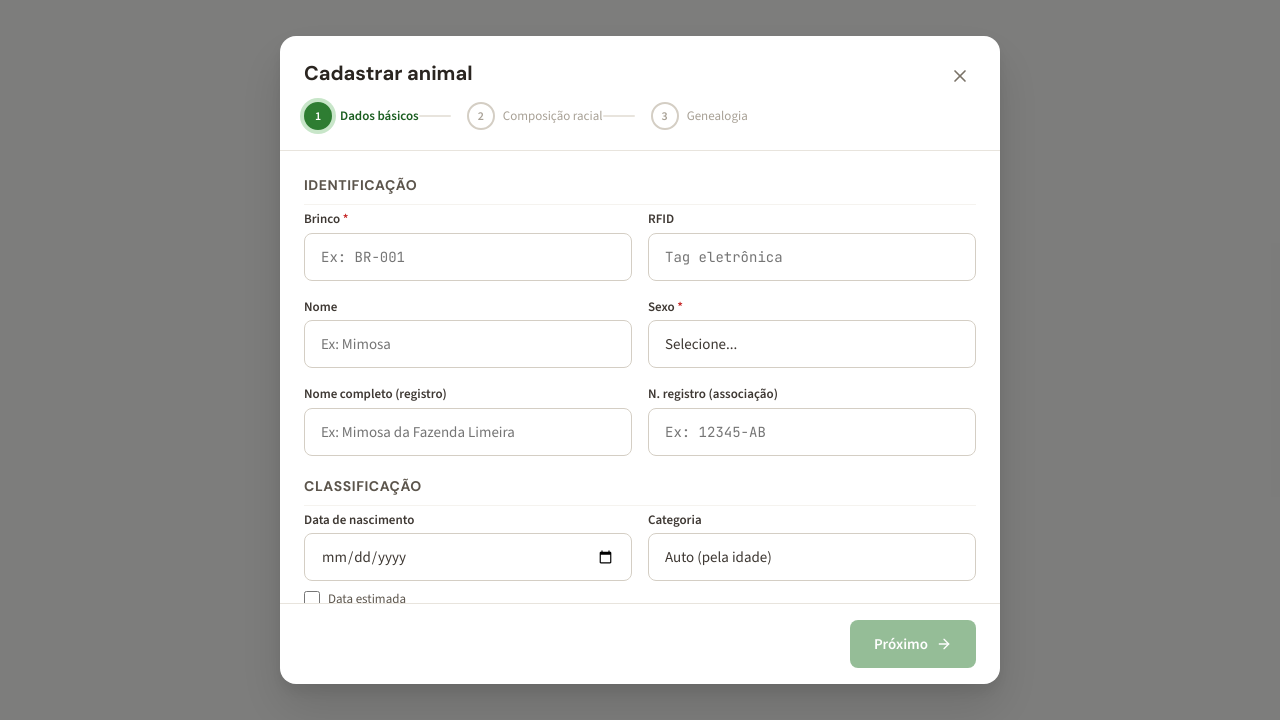
Test case: CreateAnimalModal › should navigate to step 2
Type "BR-001" into the field labelled "Brinco *" at (468, 256), box [304,232,632,280]
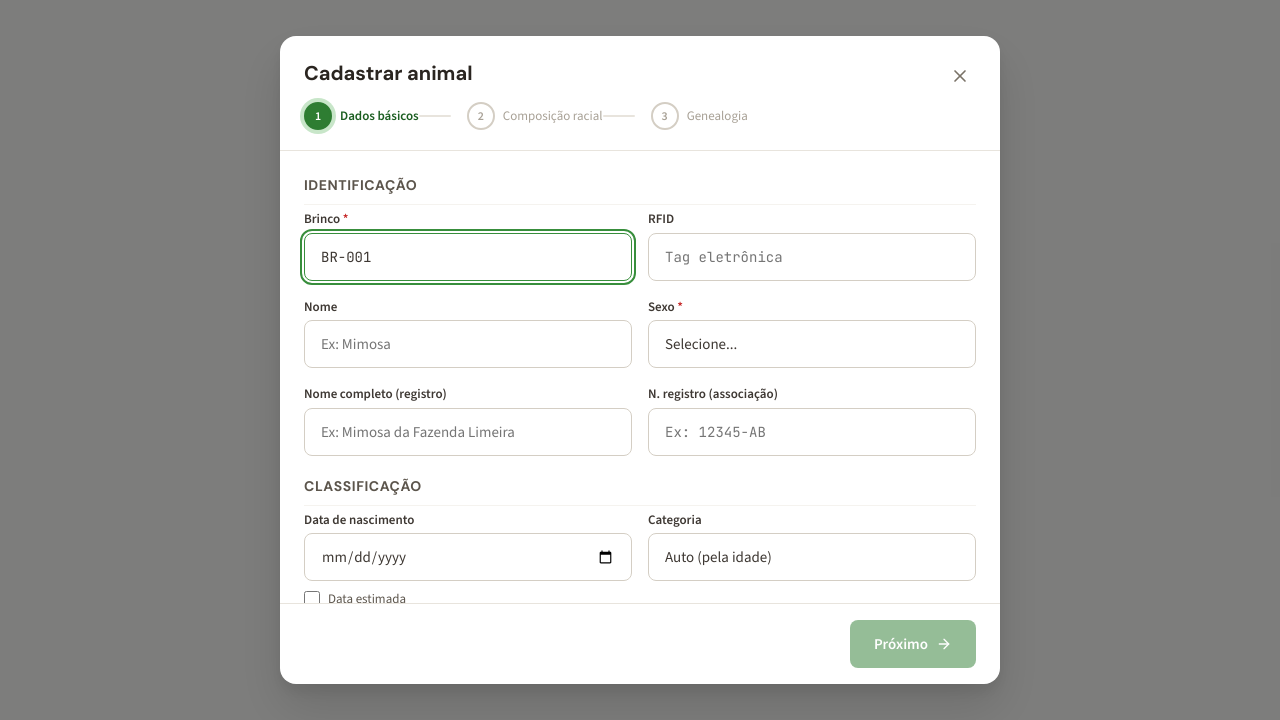
Select "Macho" in the dropdown labelled "Sexo *" at (812, 344), box [648,320,976,368]
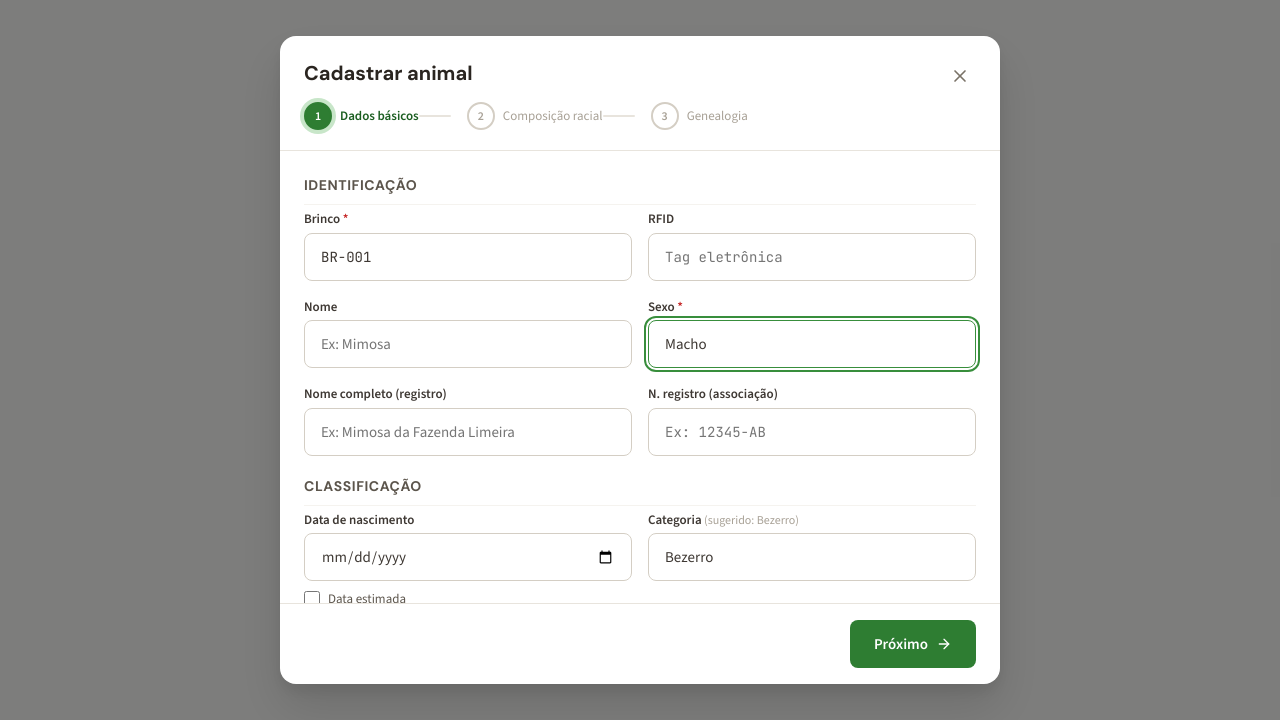
Click the button "Próximo" at (913, 644), box [850,620,976,668]
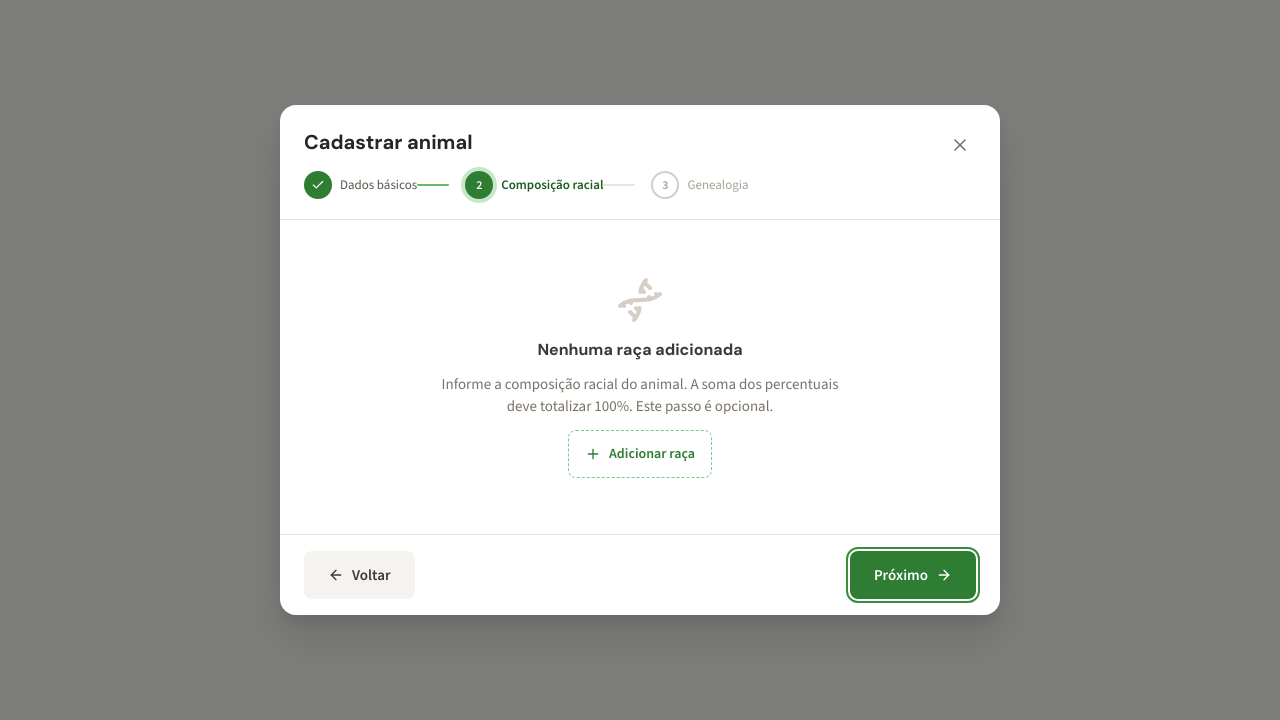
Now the text "composição racial" is shown, box [442,374,838,416]
Now the button "Adicionar raça" is shown, box [568,430,712,478]
